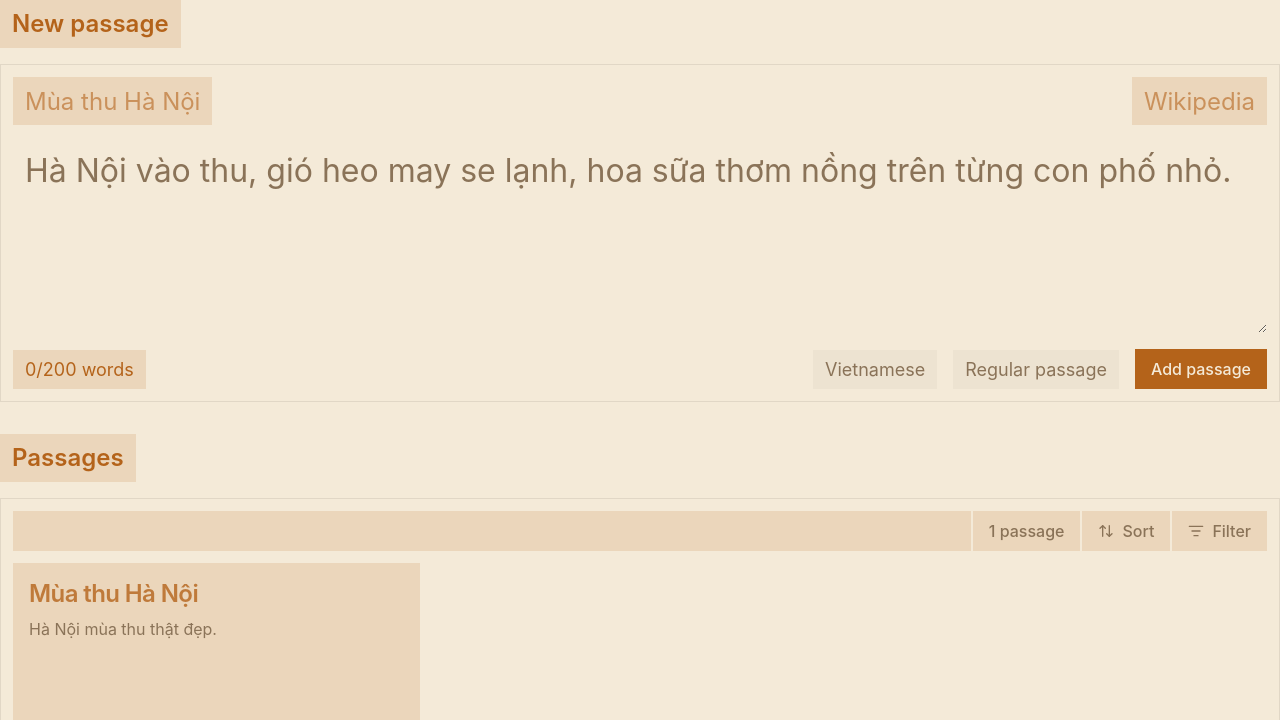
Test: AdminPassagesPage › does not submit an empty form
The image size is (1280, 720).
Expected: the heading "Mùa thu Hà Nội" is shown, 29,579 -> 198,609
Click the button "Add passage": [1201, 369] box 1135,349 -> 1267,389
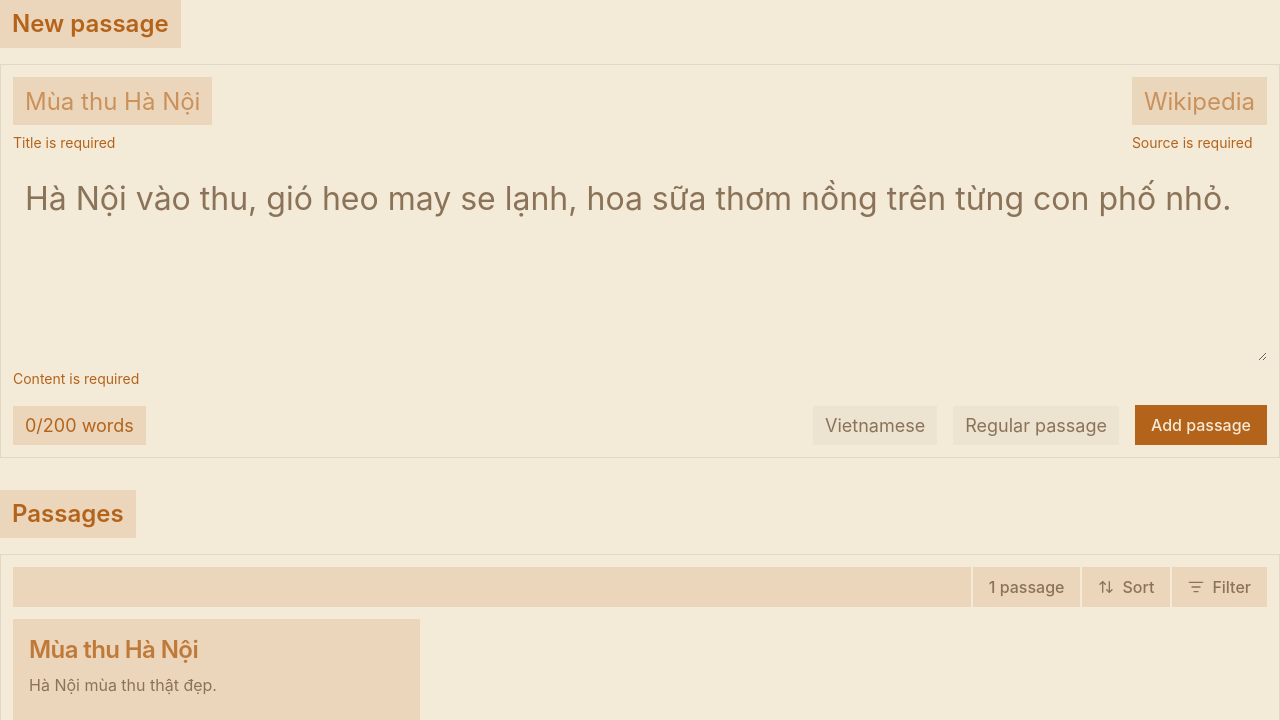
Expected: the text "Title is required" is shown, 13,134 -> 115,151
Expected: the text "Source is required" is shown, 1132,133 -> 1267,153
Expected: the text "Content is required" is shown, 13,370 -> 139,387
